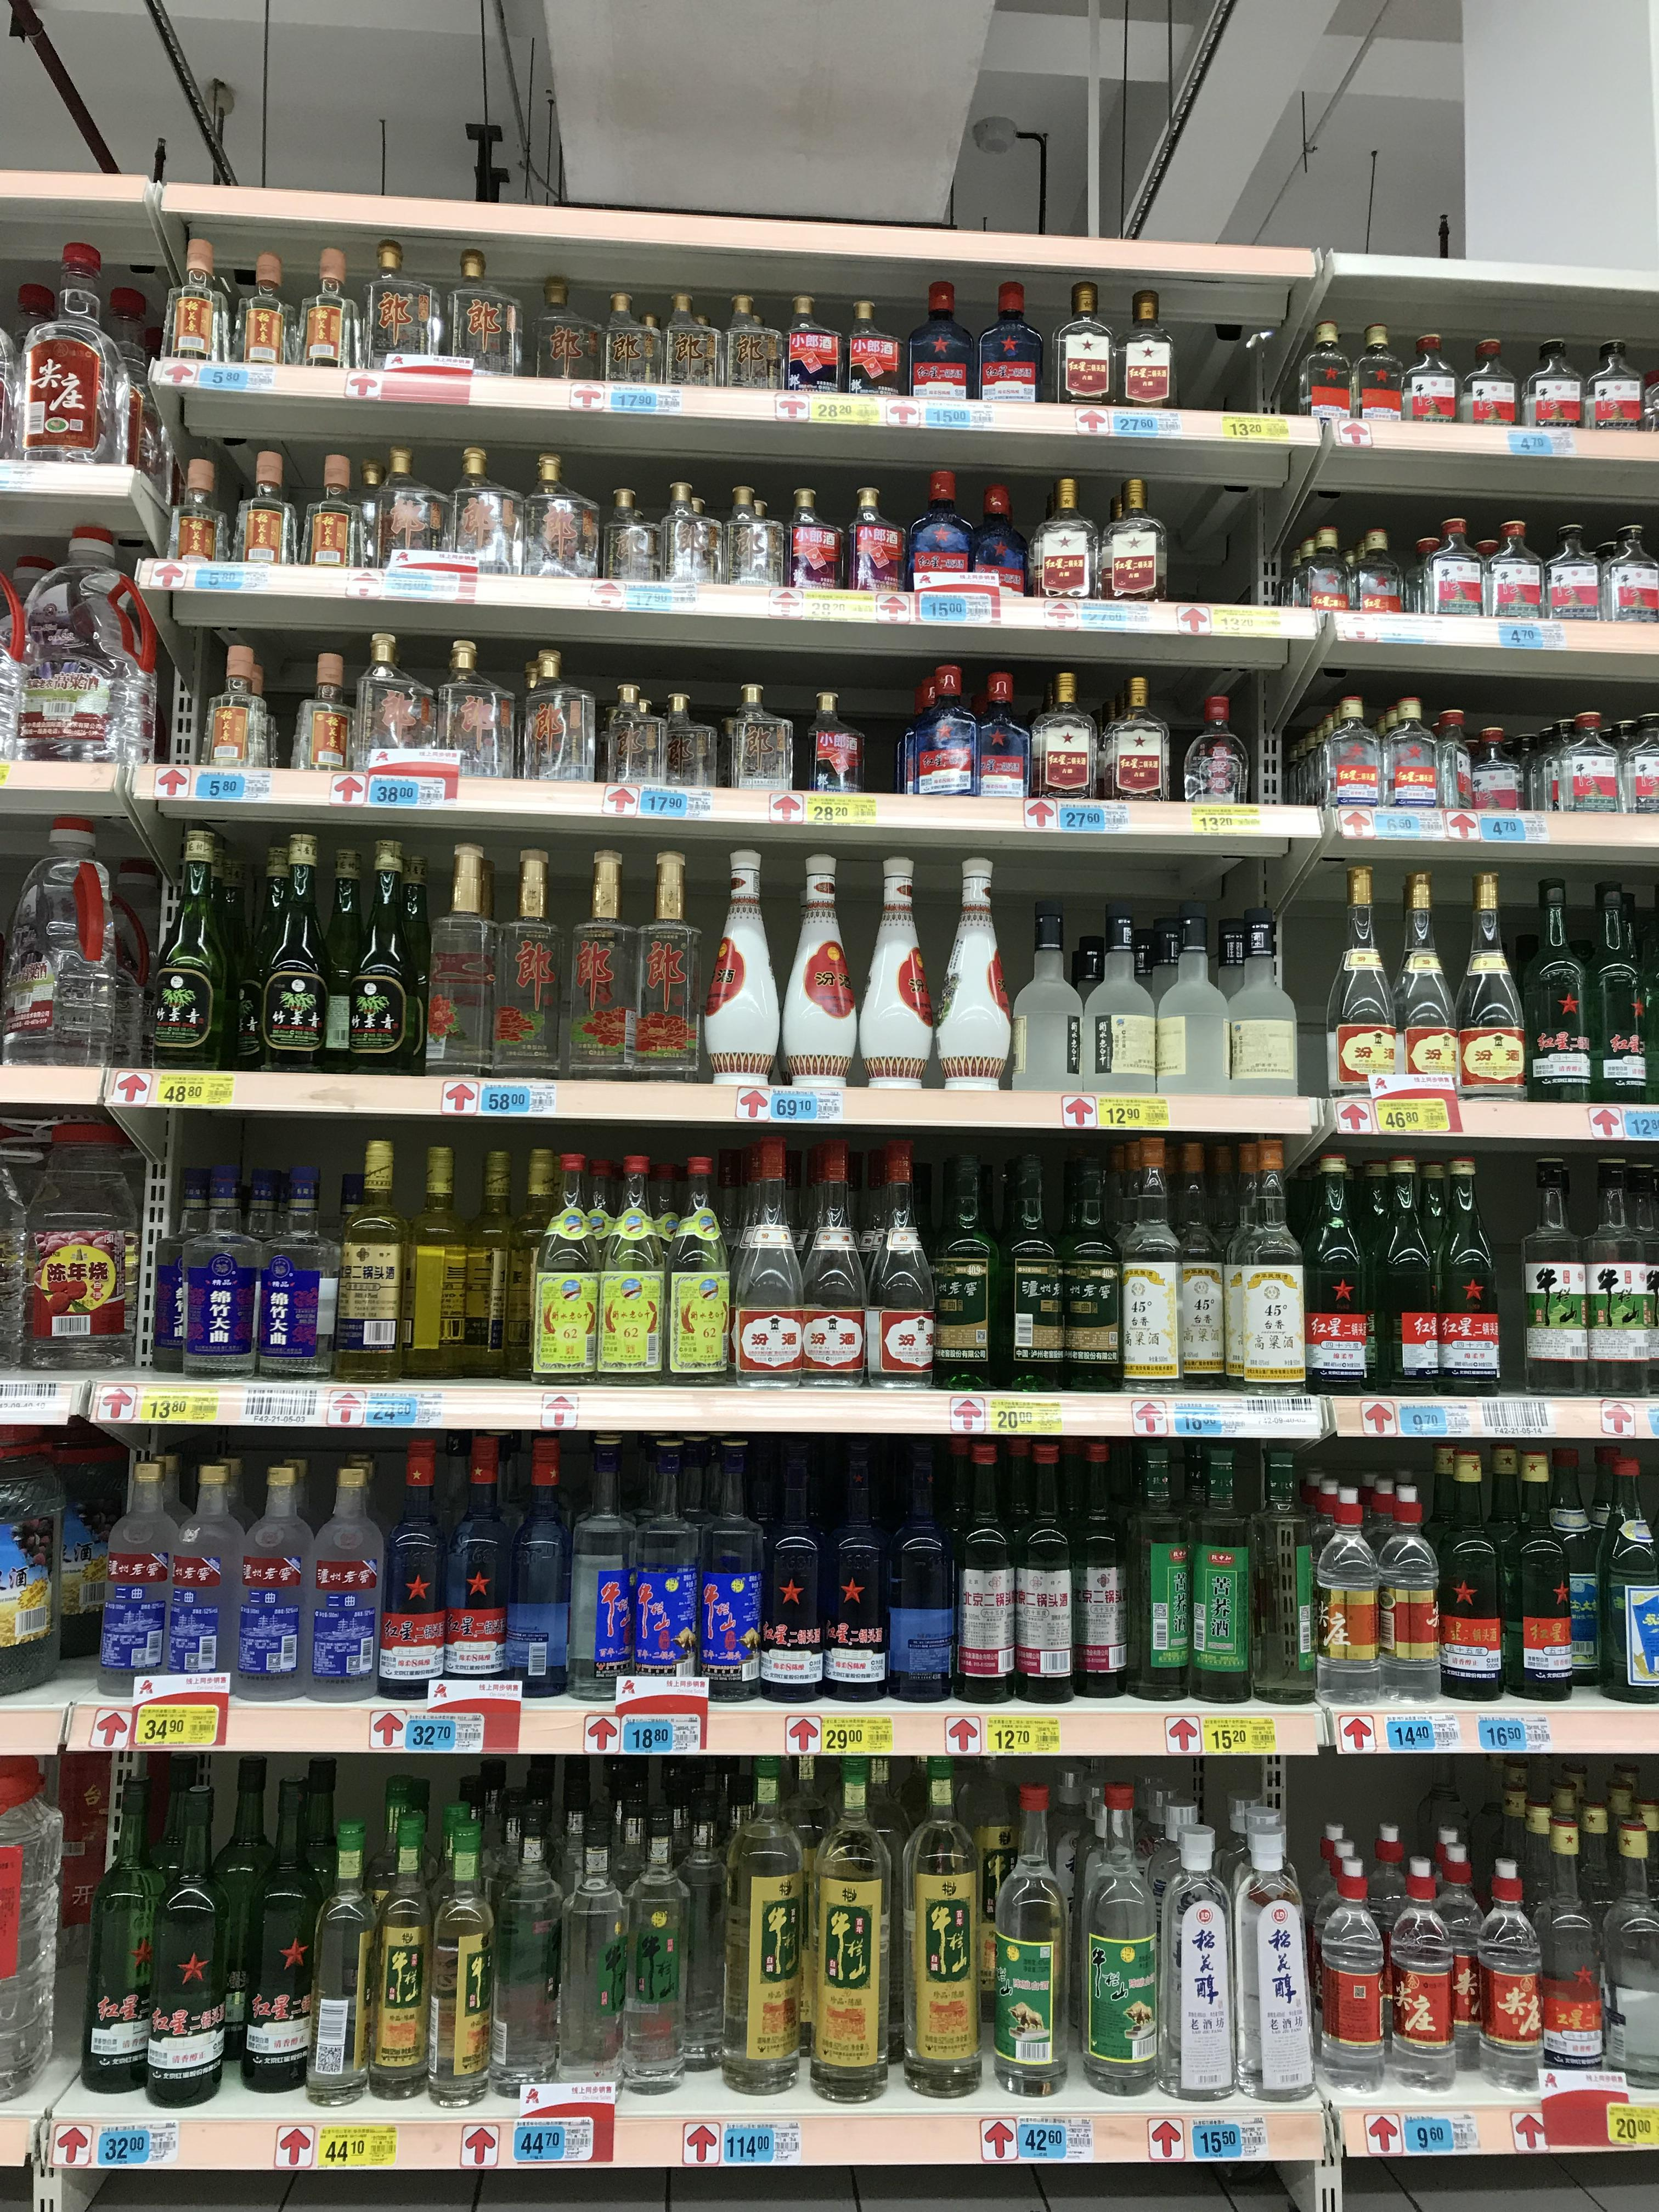bag: (14, 526, 143, 763), (1459, 345, 1520, 435)
bottle: (802, 1756, 892, 2097), (82, 1782, 179, 2092), (136, 1785, 228, 2107), (209, 1771, 301, 2088), (711, 1768, 802, 2090), (894, 1764, 983, 2092), (1075, 1796, 1164, 2097), (5, 817, 113, 1062), (985, 1785, 1068, 2094), (1232, 1820, 1316, 2099), (138, 833, 232, 1069), (300, 1829, 382, 2101), (483, 1806, 558, 2102), (610, 1808, 688, 2090), (1154, 1818, 1232, 2101), (416, 1836, 495, 2107), (368, 1446, 451, 1700), (239, 841, 329, 1073), (336, 841, 425, 1076), (554, 1811, 627, 2095), (565, 1439, 641, 1709), (359, 1827, 434, 2102), (437, 1439, 518, 1695), (1427, 1456, 1509, 1705), (629, 1440, 706, 1705), (1248, 1453, 1330, 1698), (1227, 1146, 1307, 1397), (1182, 1440, 1256, 1709), (819, 1437, 894, 1705), (101, 1454, 186, 1689), (227, 1465, 314, 1695), (1121, 1433, 1194, 1705), (298, 1470, 385, 1698), (21, 251, 108, 475), (884, 1440, 957, 1707), (1530, 1822, 1605, 2081), (755, 1440, 828, 1705), (692, 1442, 765, 1705), (167, 1463, 249, 1696), (1310, 1841, 1387, 2090), (728, 1137, 803, 1390), (498, 1440, 572, 1698), (1155, 1139, 1230, 1390), (1006, 1437, 1075, 1705), (945, 1442, 1014, 1707), (922, 1146, 999, 1386), (1108, 1137, 1180, 1395), (1053, 1143, 1126, 1392), (796, 1143, 870, 1392), (1293, 1158, 1370, 1395), (990, 1146, 1063, 1393), (592, 1151, 671, 1381), (1513, 1158, 1588, 1399), (1502, 1461, 1575, 1705), (938, 866, 1016, 1092), (782, 853, 857, 1089), (329, 1146, 404, 1379), (861, 1148, 932, 1392), (1066, 1437, 1133, 1700), (523, 1155, 599, 1381), (1518, 881, 1595, 1108), (1427, 1160, 1500, 1393), (1453, 873, 1527, 1106), (659, 1151, 732, 1383), (488, 853, 561, 1085), (1582, 1157, 1652, 1399), (706, 853, 777, 1089), (859, 859, 931, 1092), (179, 1167, 256, 1383), (1528, 1467, 1600, 1698), (1589, 1460, 1657, 1702), (565, 862, 638, 1087), (427, 848, 497, 1082), (1474, 1865, 1547, 2087), (1384, 1860, 1455, 2087), (1582, 881, 1652, 1111), (1391, 873, 1460, 1101), (631, 853, 699, 1087), (399, 1148, 469, 1374), (1368, 1482, 1441, 1696), (1310, 1489, 1385, 1698), (256, 1165, 328, 1381), (1368, 1158, 1436, 1383), (1333, 871, 1399, 1101), (1410, 1860, 1478, 2083), (1591, 1815, 1657, 2041), (481, 1155, 545, 1376), (1225, 906, 1293, 1092), (1157, 909, 1225, 1087), (1082, 916, 1154, 1083), (99, 270, 159, 458), (1016, 928, 1084, 1085), (354, 639, 423, 775), (903, 669, 972, 801), (521, 653, 589, 784), (164, 240, 228, 376), (526, 270, 601, 383), (1028, 681, 1098, 801), (1100, 481, 1166, 606), (904, 474, 969, 599), (1103, 681, 1169, 803), (1033, 482, 1098, 606), (530, 463, 596, 583), (978, 287, 1040, 413), (429, 646, 488, 779), (906, 294, 972, 413), (209, 644, 268, 777), (450, 648, 507, 782), (967, 672, 1025, 803), (458, 260, 521, 376), (444, 456, 504, 578), (1051, 291, 1112, 409), (598, 486, 667, 589), (1419, 517, 1488, 618), (803, 691, 870, 798), (1112, 294, 1171, 413), (775, 293, 845, 392), (842, 489, 903, 603), (1488, 524, 1556, 625), (843, 293, 904, 404), (378, 463, 439, 573), (1392, 333, 1462, 428), (1589, 333, 1652, 439), (596, 293, 664, 390), (655, 491, 721, 590), (969, 489, 1026, 603), (239, 455, 293, 575), (720, 493, 782, 596), (779, 495, 840, 597), (239, 260, 293, 373), (714, 294, 775, 394), (1603, 517, 1659, 625), (380, 253, 430, 371), (660, 293, 720, 392), (305, 465, 357, 575), (307, 256, 354, 376), (296, 664, 345, 777), (178, 462, 227, 573), (1352, 531, 1406, 620), (1309, 327, 1351, 434), (1352, 336, 1398, 434)
box: (1520, 348, 1591, 439)
bucket: (19, 1106, 150, 1366), (2, 1430, 58, 1696), (1539, 533, 1605, 624)
jar: (1176, 700, 1251, 806), (721, 690, 793, 796), (1547, 718, 1619, 820), (1319, 704, 1380, 810), (1375, 702, 1432, 813), (601, 693, 664, 791), (650, 702, 711, 794), (1425, 714, 1474, 819), (1467, 730, 1521, 822), (1347, 542, 1405, 622), (1302, 540, 1351, 624), (1617, 718, 1657, 817)
